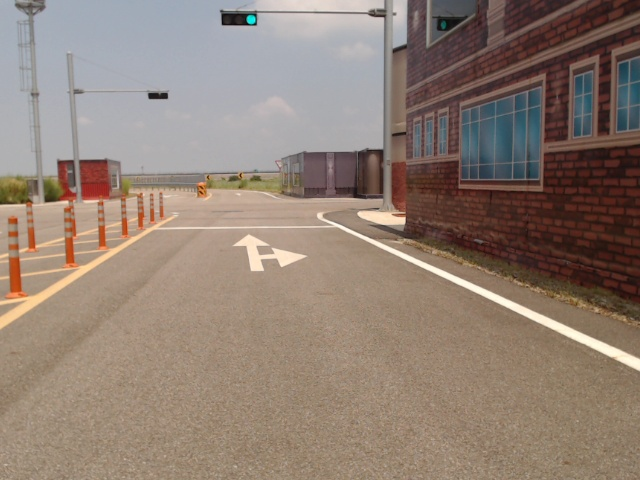green_3: (221, 13, 257, 26)
